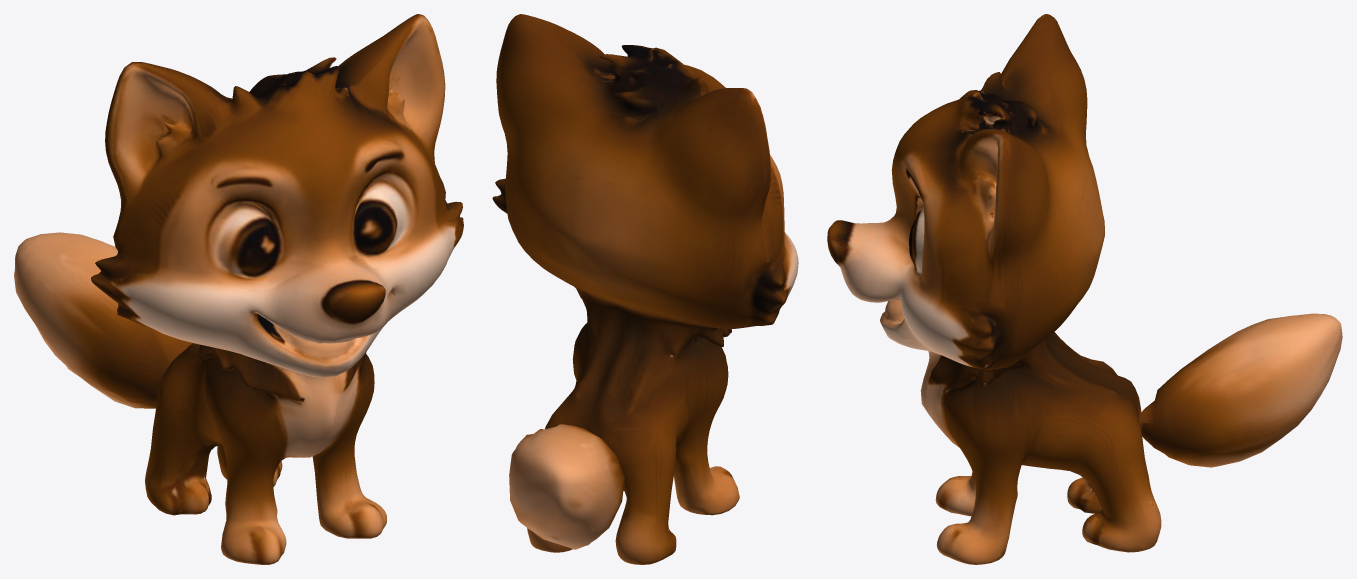
The model's file is foxorange.glb.
3 views of the same model, side by side, from view 1: azimuth 30°, elevation 25°; view 2: azimuth 150°, elevation 25°; view 3: azimuth 270°, elevation 25° (orthographic). The views are drawn at different scales.
Parts seen in each view (by area): view 1: Fox; view 2: Fox; view 3: Fox.
Boxes of the visible parts, box(x1,y1,x2,y2) form: Fox: box(14, 14, 463, 564); Fox: box(492, 14, 798, 564); Fox: box(827, 14, 1342, 564).
Bounding box in the file's own units: 1.46 × 1.99 × 2.03.
1 material, 1 textured.
